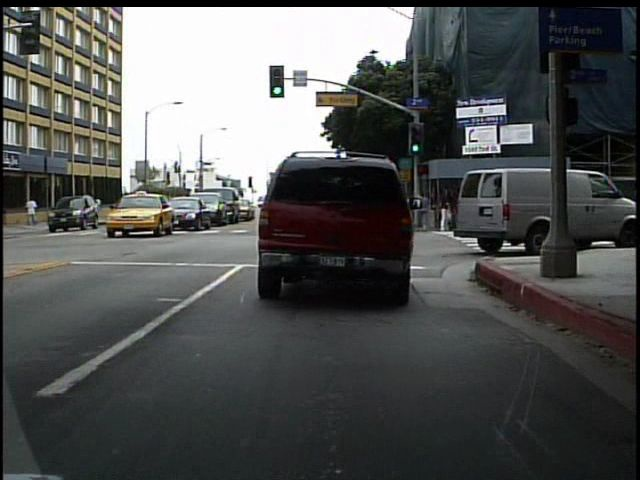person: (502, 173, 525, 237), (22, 195, 40, 230)
